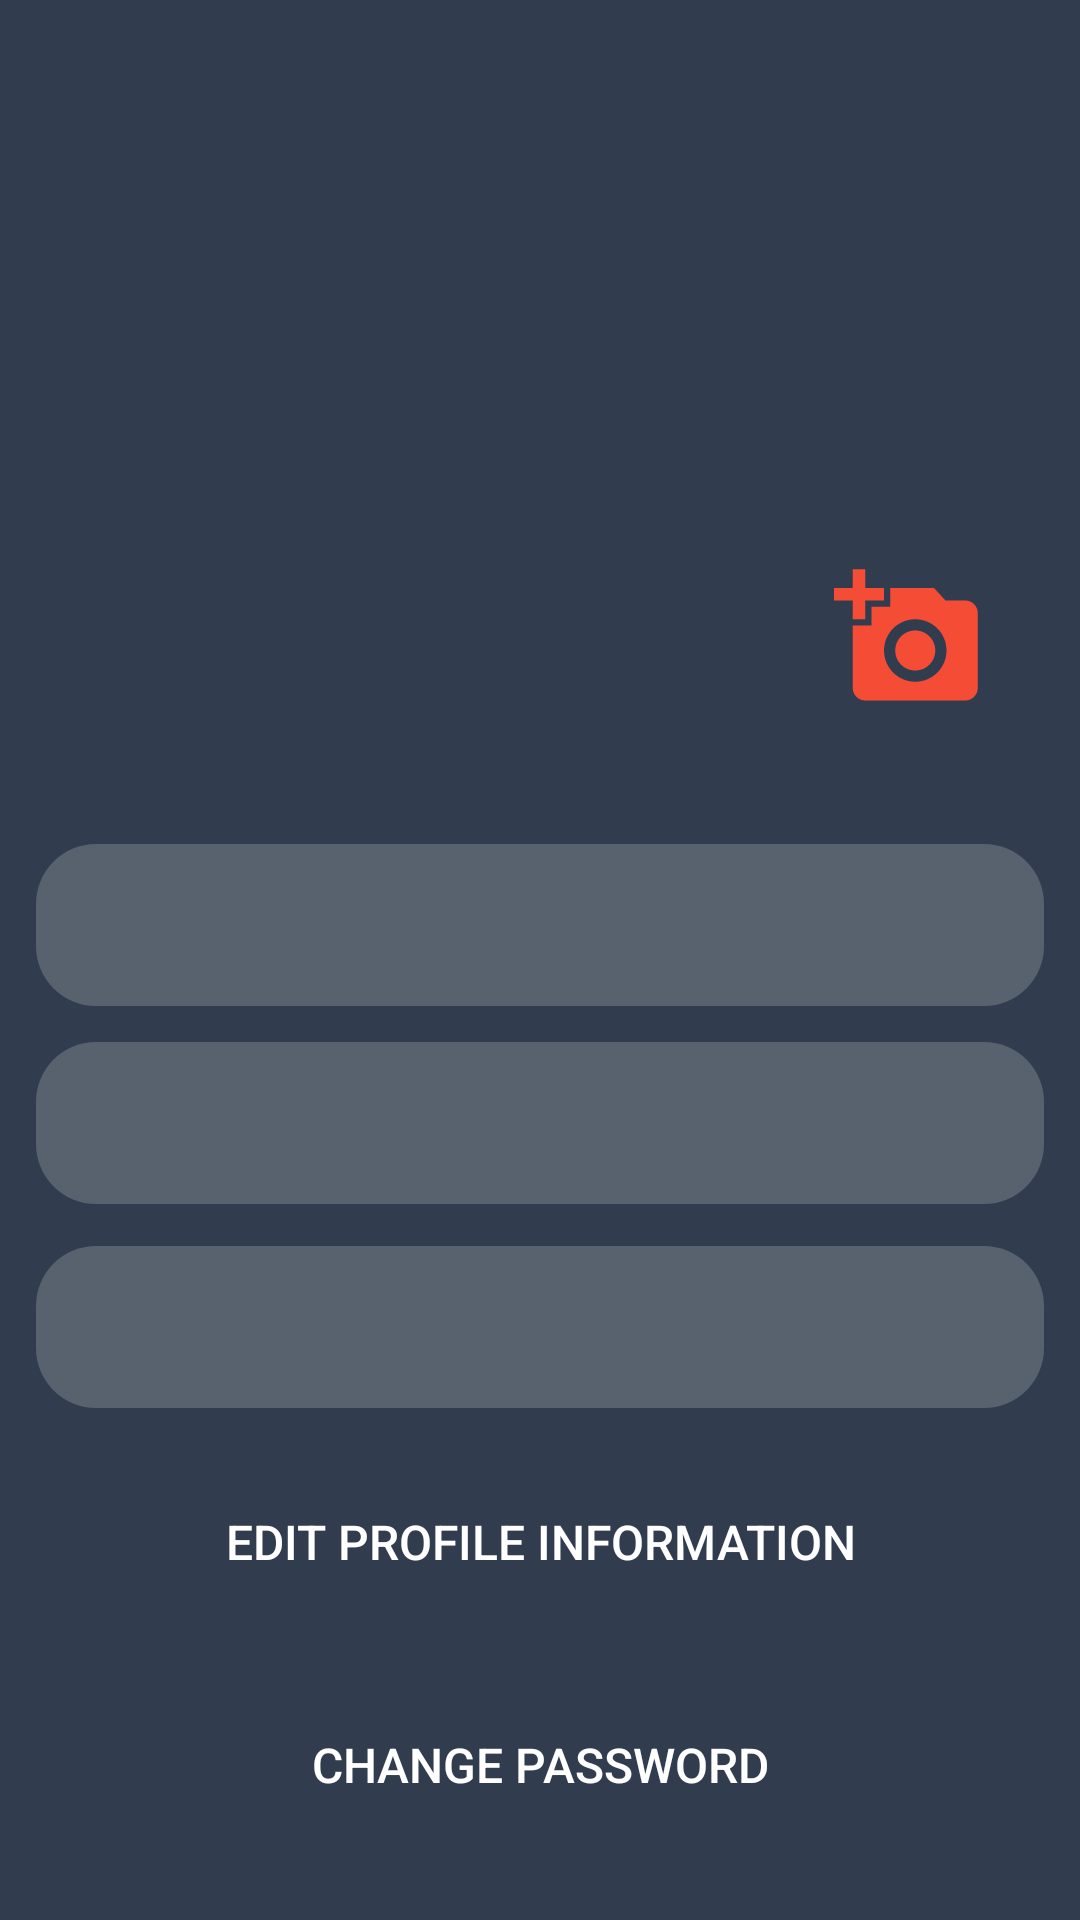

Screen size 1080*1920. Icon name, then its center in pixels as (x=x, y=y):
add photo: (x=906, y=635)
